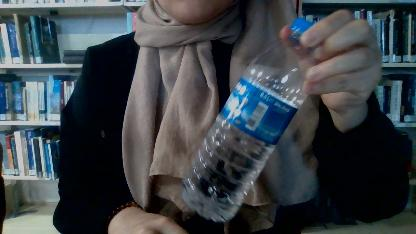Plastic Bottle: (172, 15, 320, 220)
